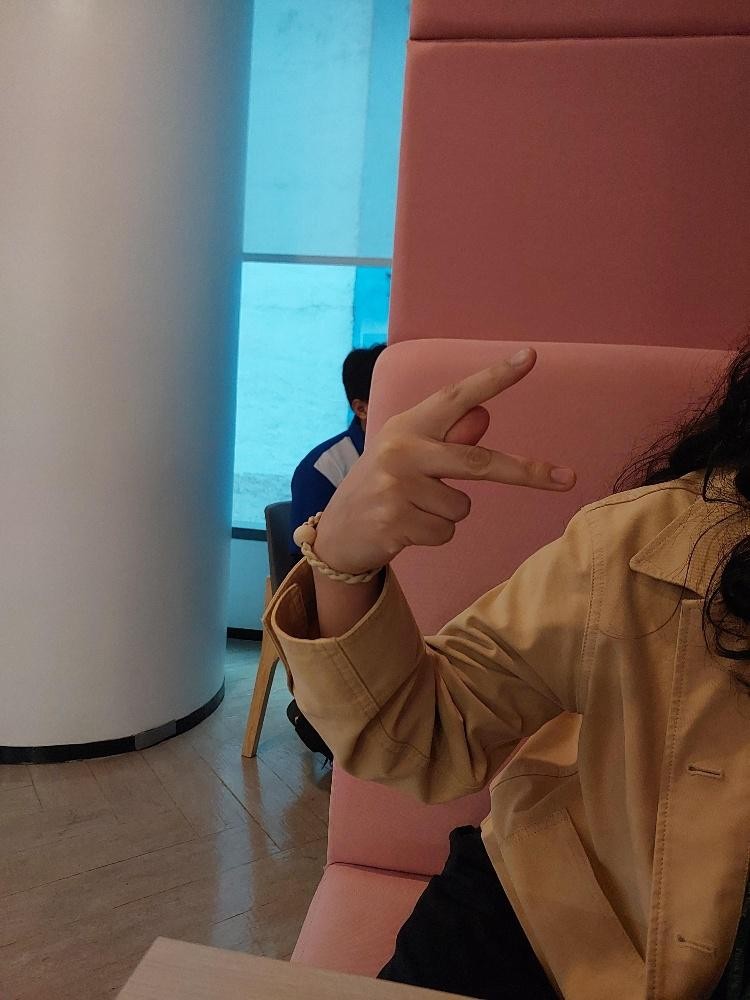k: (300, 337, 586, 580)
